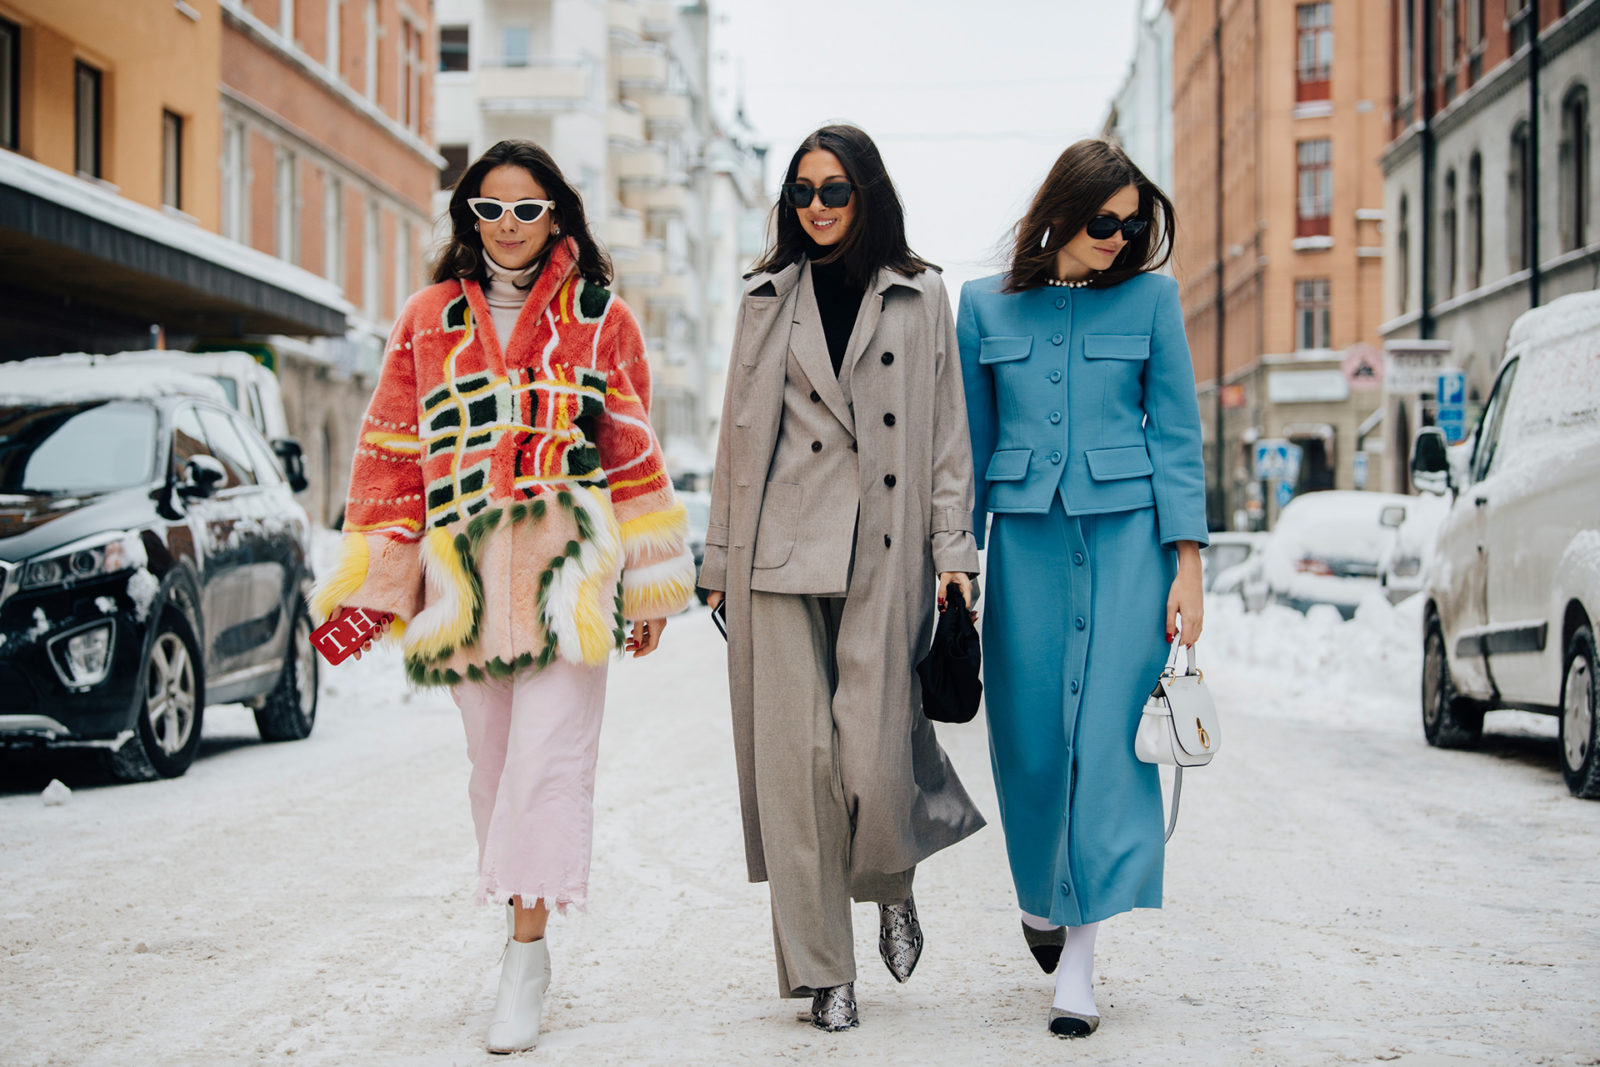Person: (308, 139, 697, 1055), (700, 123, 978, 1033), (966, 139, 1207, 1038)
